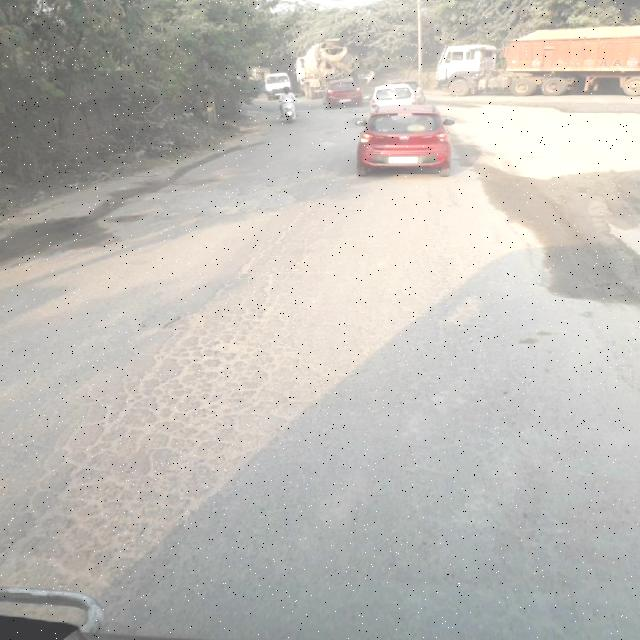D00: (154, 220, 295, 370)
D20: (18, 196, 606, 608)
